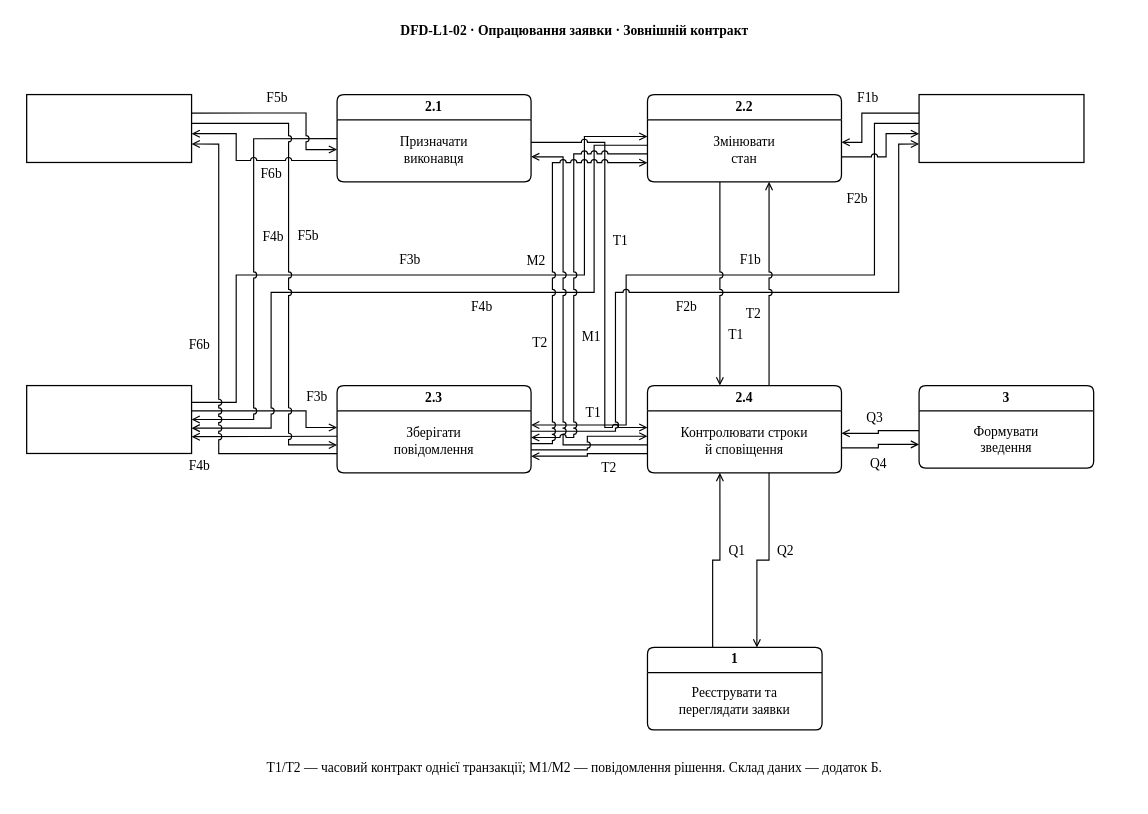
Some shapes in this 1148 by 814 pixel diagram are drawn without their labels. The shapes that lost their labels are listed below. From the top down, each one's box as (x1, y1, x2, y2) in pixels, then its label:
(26, 94, 192, 163): E3 Координатор
(918, 94, 1084, 163): E1 Заявник
(26, 385, 192, 454): E2 Спеціаліст
